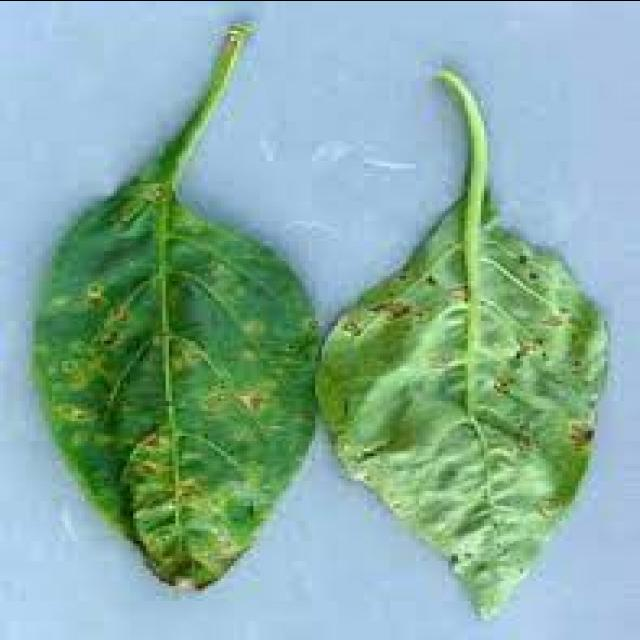bercak_daun: (36, 164, 320, 588)
